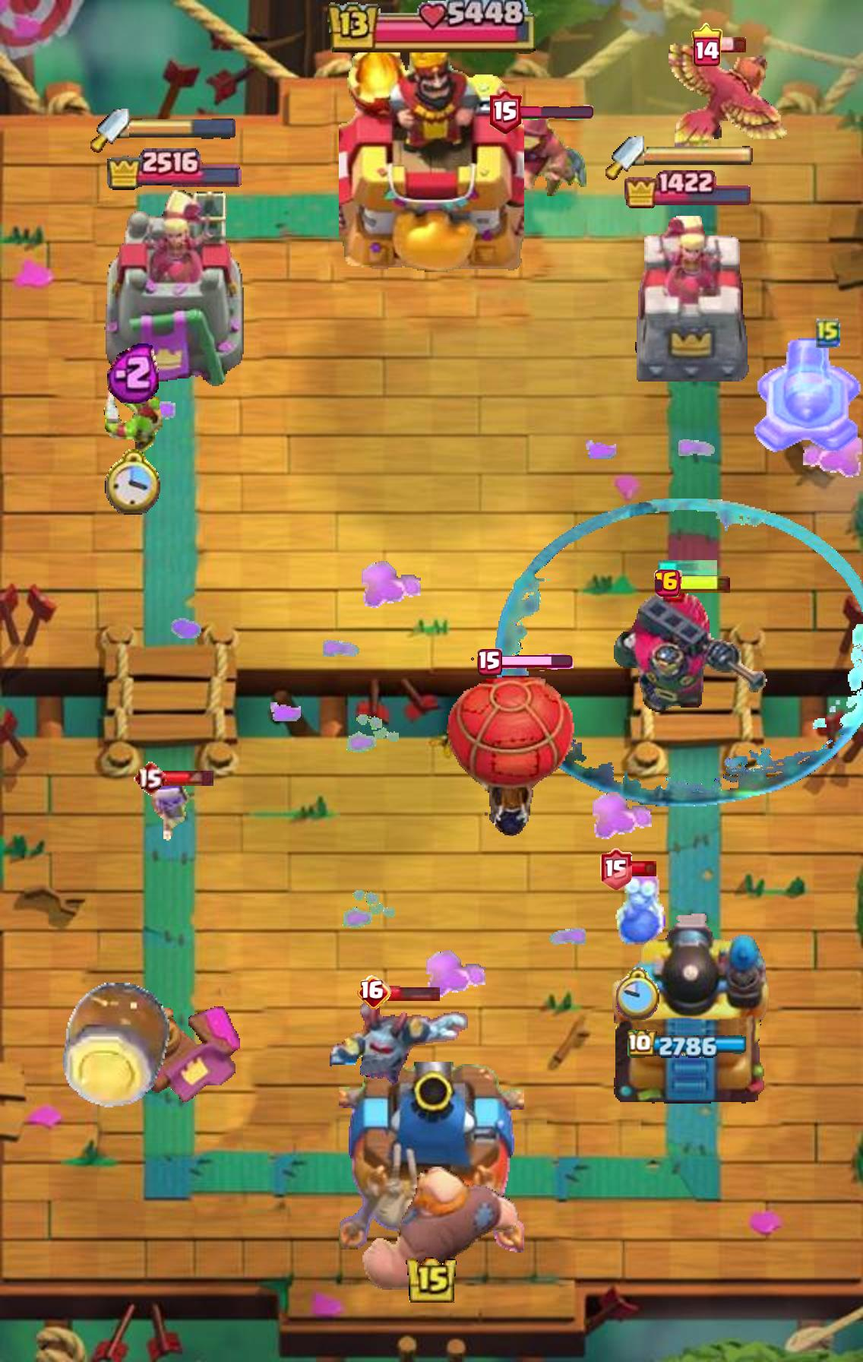cannon: (751, 333, 863, 461)
elixir: (107, 341, 164, 404)
